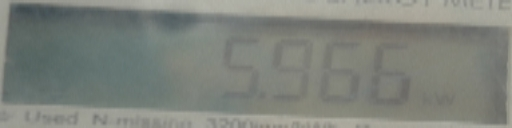5: (218, 33, 262, 109)
6: (319, 33, 363, 109), (372, 33, 416, 109)
9: (272, 32, 316, 108)
d: (254, 87, 273, 107)
